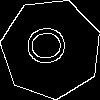O: (26, 23, 76, 67)
